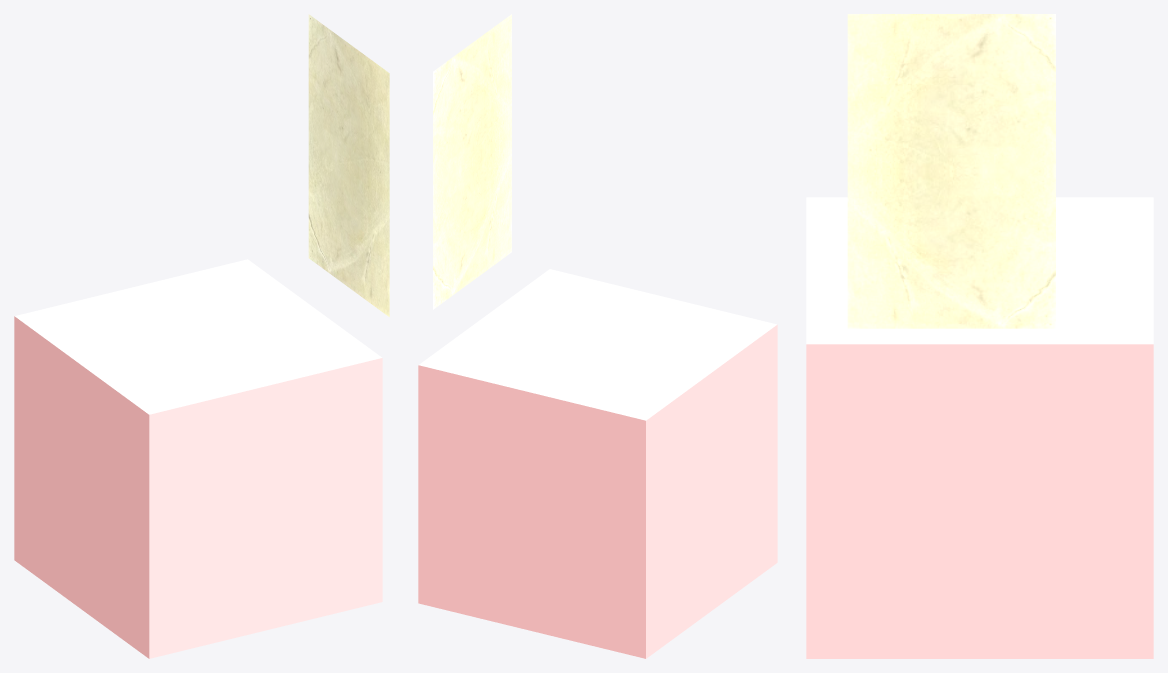
The picture shows the model from 3 angles, left to right: view 1: azimuth 30°, elevation 25°; view 2: azimuth 150°, elevation 25°; view 3: azimuth 270°, elevation 25°; orthographic projection. The views are drawn at different scales.
Visible parts, largest first — view 1: Box, normal; view 2: Box, normal; view 3: Box, normal.
Part boxes in pixels (x1,y1,x2,y2): Box: (14, 259, 382, 658); normal: (308, 14, 389, 316); Box: (418, 269, 777, 658); normal: (433, 14, 511, 309); Box: (806, 197, 1153, 658); normal: (847, 14, 1055, 328).
Size of the model in its own units: 1.1 by 2.1 by 1.
2 materials, 1 textured.
